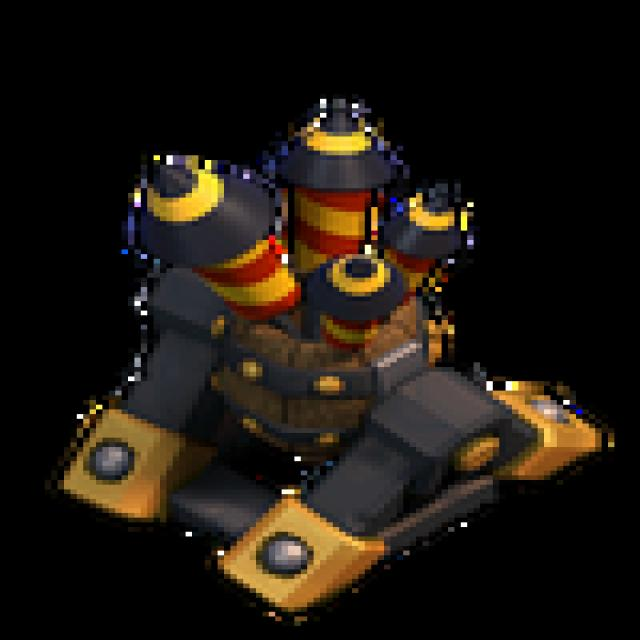air_defense: (30, 93, 628, 632)
